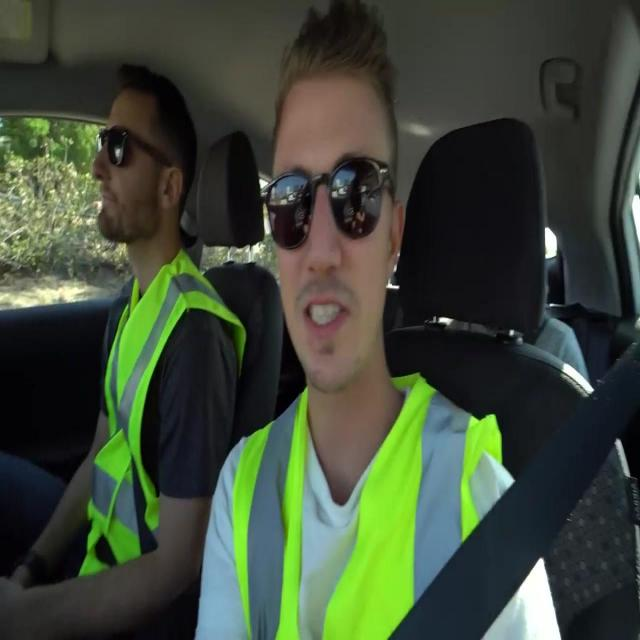Reflective-Jacket: (222, 376, 518, 639), (76, 246, 250, 574)
Safety-Helmet: (84, 72, 198, 172)
